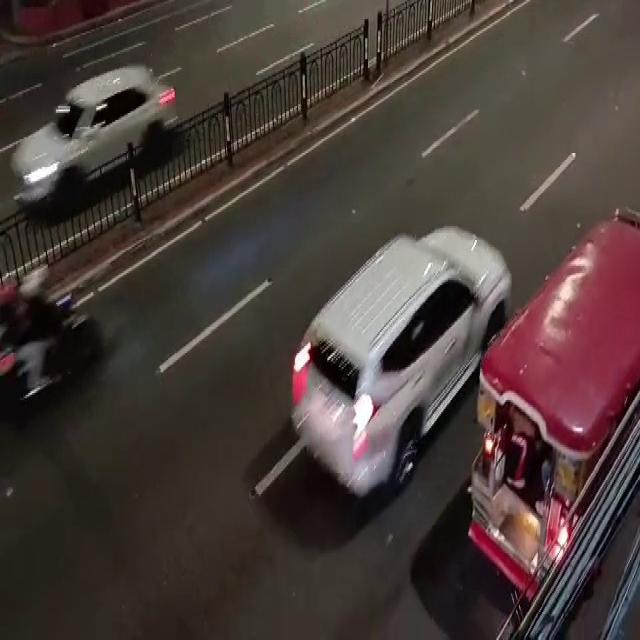car: (308, 227, 487, 480), (15, 78, 186, 210)
jeepney: (468, 200, 637, 604)
